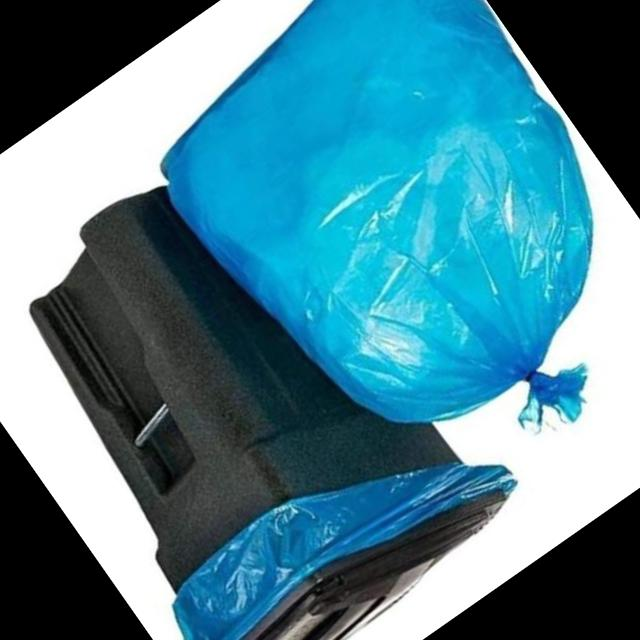KantongPlastik: (115, 0, 640, 542)
